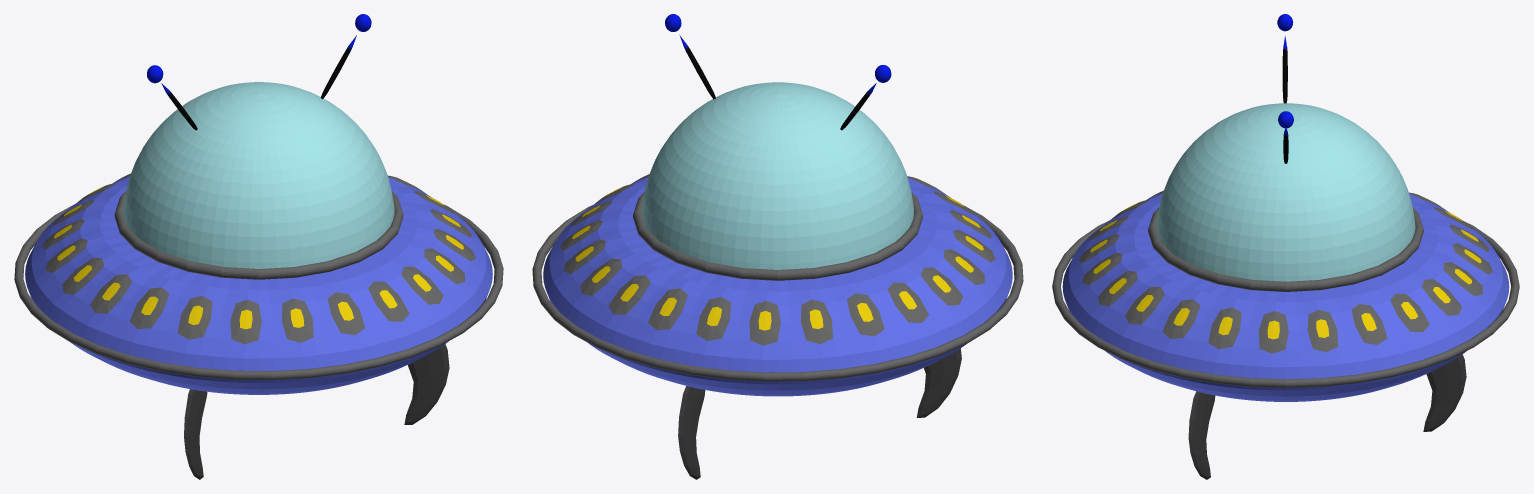
Rendered from GameAssetUFOBlue.fbx.
The picture shows the model from 3 angles, left to right: view 1: azimuth 30°, elevation 25°; view 2: azimuth 150°, elevation 25°; view 3: azimuth 270°, elevation 25°; orthographic projection. The views are drawn at different scales.
Parts seen in each view (by area): view 1: UFOBody; view 2: UFOBody; view 3: UFOBody.
Part boxes in pixels (x1=…): UFOBody: x1=14, y1=14, x2=503, y2=479; UFOBody: x1=532, y1=14, x2=1023, y2=479; UFOBody: x1=1052, y1=14, x2=1519, y2=479.
Bounding box in the file's own units: 766 × 662 × 766.
